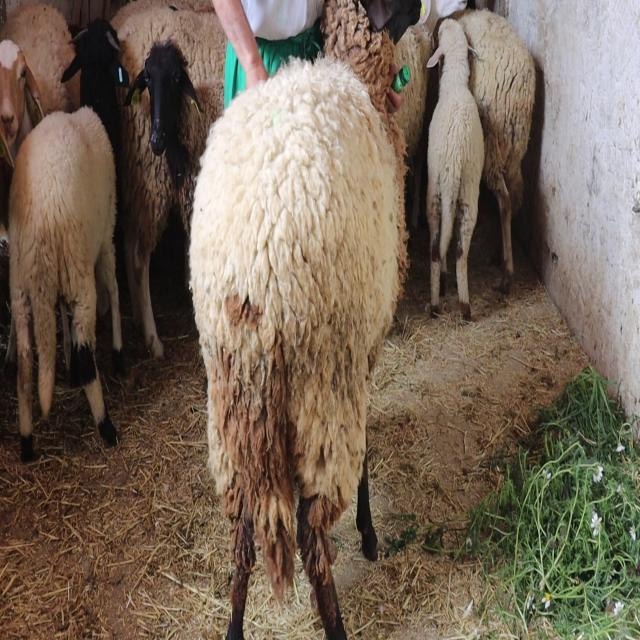Score_5: (189, 0, 419, 639)
